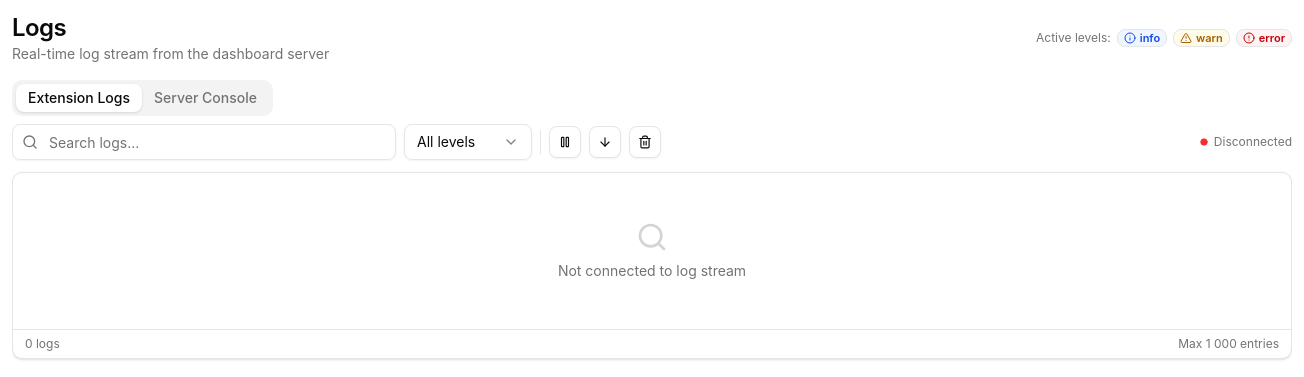
Test case: LogsPage › switches to Server Console tab
Click the tab "Server Console" at (206, 98), box [142,84,269,112]
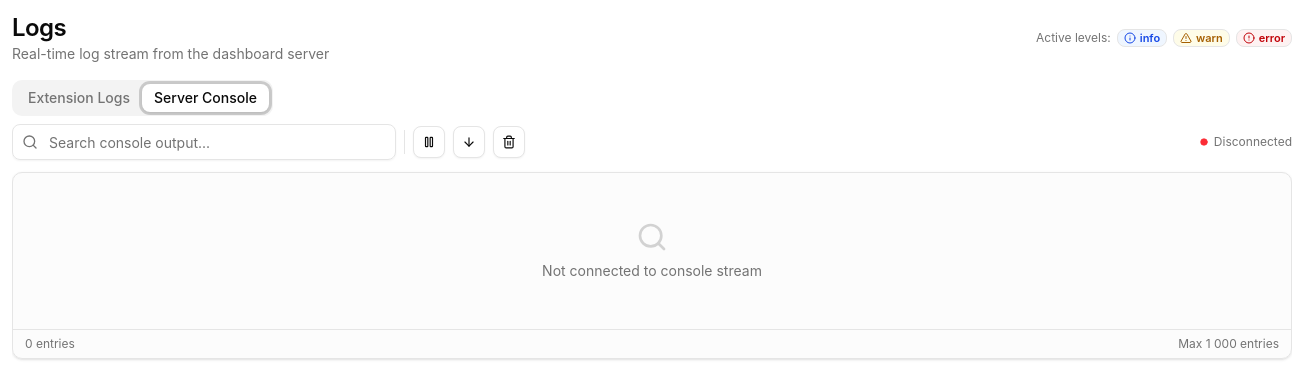
expect the text "Not connected to console stream" is shown: met, box [542,261,762,281]
